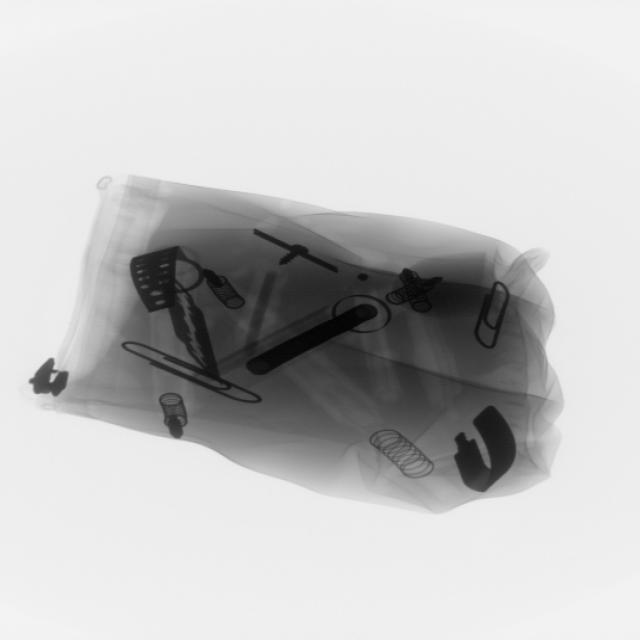BLADE: (153, 275, 234, 400)
